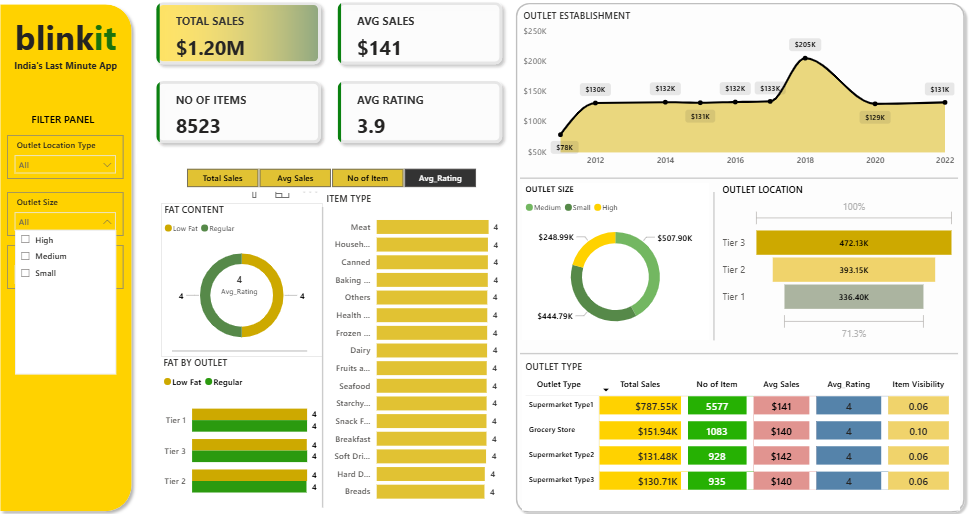

Layout of this report page (visuals, bound fields, positions):
{"tool":"powerbi","page":{"name":"Page 1","canvas":[1400,800],"ordinal":0},"visuals":[{"type":"shape","box":[1.2,22.5,206.2,745],"z":0},{"type":"textbox","box":[14.3,40,180,80],"z":1000},{"type":"textbox","box":[14.3,105.7,180,48.6],"z":2000},{"type":"cardVisual","fields":{"Data":["BlinkIT Grocery Data.Total Sales","BlinkIT Grocery Data.Avg Sales","BlinkIT Grocery Data.No of Item","BlinkIT Grocery Data.Avg_Rating"]},"box":[205,0,554.3,261.4],"z":3000},{"type":"shape","box":[742.5,22.5,657.5,745],"z":4000},{"type":"donutChart","title":"FAT CONTENT","fields":{"Y":["BlinkIT Grocery Data.No of Item"],"Category":["BlinkIT Grocery Data.Item Fat Content"]},"box":[240.9,316.5,231.5,220.5],"z":5000},{"type":"slicer","fields":{"Values":["Metrics.Metrics"]},"box":[252.9,261.4,464.3,40],"z":6000},{"type":"cardVisual","fields":{"Data":["BlinkIT Grocery Data.No of Item"]},"box":[295,400,116.2,68.8],"z":7000},{"type":"clusteredBarChart","title":" FAT BY OUTLET","fields":{"Y":["BlinkIT Grocery Data.No of Item"],"Category":["BlinkIT Grocery Data.Outlet Location Type"],"Series":["BlinkIT Grocery Data.Item Fat Content"]},"box":[238.8,536.2,230,220],"z":8000},{"type":"shape","box":[256.2,518.8,193.8,20],"z":9000},{"type":"shape","box":[458.8,322.5,27.5,431.2],"z":10000},{"type":"barChart","title":"ITEM TYPE","fields":{"Y":["BlinkIT Grocery Data.No of Item"],"Category":["BlinkIT Grocery Data.Item Type"]},"box":[472.5,301.2,256.2,455],"z":11000},{"type":"lineChart","title":"OUTLET ESTABLISHMENT","fields":{"Category":["BlinkIT Grocery Data.Outlet Establishment Year"],"Y":["BlinkIT Grocery Data.Total Sales"]},"box":[755.9,39.4,628.3,234.6],"z":12000},{"type":"donutChart","title":"OUTLET SIZE","fields":{"Y":["BlinkIT Grocery Data.Total Sales"],"Category":["BlinkIT Grocery Data.Outlet Size"]},"box":[759.1,288.2,267.7,225.2],"z":13000},{"type":"shape","box":[755.9,263,628.3,37.8],"z":14000},{"type":"shape","box":[1026.8,300.8,14.2,212.6],"z":15000},{"type":"funnel","title":"OUTLET LOCATION","fields":{"Y":["Sum(BlinkIT Grocery Data.Sales)"],"Category":["BlinkIT Grocery Data.Outlet Location Type"]},"box":[1040.9,288.2,343.3,231.5],"z":16000},{"type":"shape","box":[755.9,522.8,628.3,18.9],"z":17000},{"type":"pivotTable","title":"OUTLET TYPE","fields":{"Rows":["BlinkIT Grocery Data.Outlet Type"],"Values":["BlinkIT Grocery Data.Total Sales","BlinkIT Grocery Data.No of Item","BlinkIT Grocery Data.Avg Sales","BlinkIT Grocery Data.Avg_Rating","Avg(BlinkIT Grocery Data.Item Visibility)"]},"box":[759.1,541.7,628.3,215.7],"z":18000},{"type":"slicer","fields":{"Values":["BlinkIT Grocery Data.Outlet Location Type"]},"box":[20.5,218.9,166.9,63],"z":19000},{"type":"slicer","fields":{"Values":["BlinkIT Grocery Data.Outlet Size"]},"box":[20.5,300.8,166.9,63],"z":20000},{"type":"slicer","fields":{"Values":["BlinkIT Grocery Data.Item Type"]},"box":[20.5,376.4,166.9,63],"z":21000},{"type":"textbox","box":[50.4,181.1,107.1,37.8],"z":22000}]}

Visuals, with their boxes on the page's 1400x800 design canvas (x1, y1, x2, y2). These are canvas units, not pixel positions in the 969x514 screenshot, which may show the page scaled, cropped or inside an application window:
shape: box(1, 22, 207, 768)
textbox: box(14, 40, 194, 120)
textbox: box(14, 106, 194, 154)
cardVisual - BlinkIT Grocery Data.Total Sales x BlinkIT Grocery Data.Avg Sales: box(205, 0, 759, 261)
shape: box(742, 22, 1400, 768)
"FAT CONTENT" donutChart: box(241, 316, 472, 537)
slicer - Metrics.Metrics: box(253, 261, 717, 301)
cardVisual - BlinkIT Grocery Data.No of Item: box(295, 400, 411, 469)
" FAT BY OUTLET" clusteredBarChart: box(239, 536, 469, 756)
shape: box(256, 519, 450, 539)
shape: box(459, 322, 486, 754)
"ITEM TYPE" barChart: box(472, 301, 729, 756)
"OUTLET ESTABLISHMENT" lineChart: box(756, 39, 1384, 274)
"OUTLET SIZE" donutChart: box(759, 288, 1027, 513)
shape: box(756, 263, 1384, 301)
shape: box(1027, 301, 1041, 513)
"OUTLET LOCATION" funnel: box(1041, 288, 1384, 520)
shape: box(756, 523, 1384, 542)
"OUTLET TYPE" pivotTable: box(759, 542, 1387, 757)
slicer - BlinkIT Grocery Data.Outlet Location Type: box(20, 219, 187, 282)
slicer - BlinkIT Grocery Data.Outlet Size: box(20, 301, 187, 364)
slicer - BlinkIT Grocery Data.Item Type: box(20, 376, 187, 439)
textbox: box(50, 181, 158, 219)
